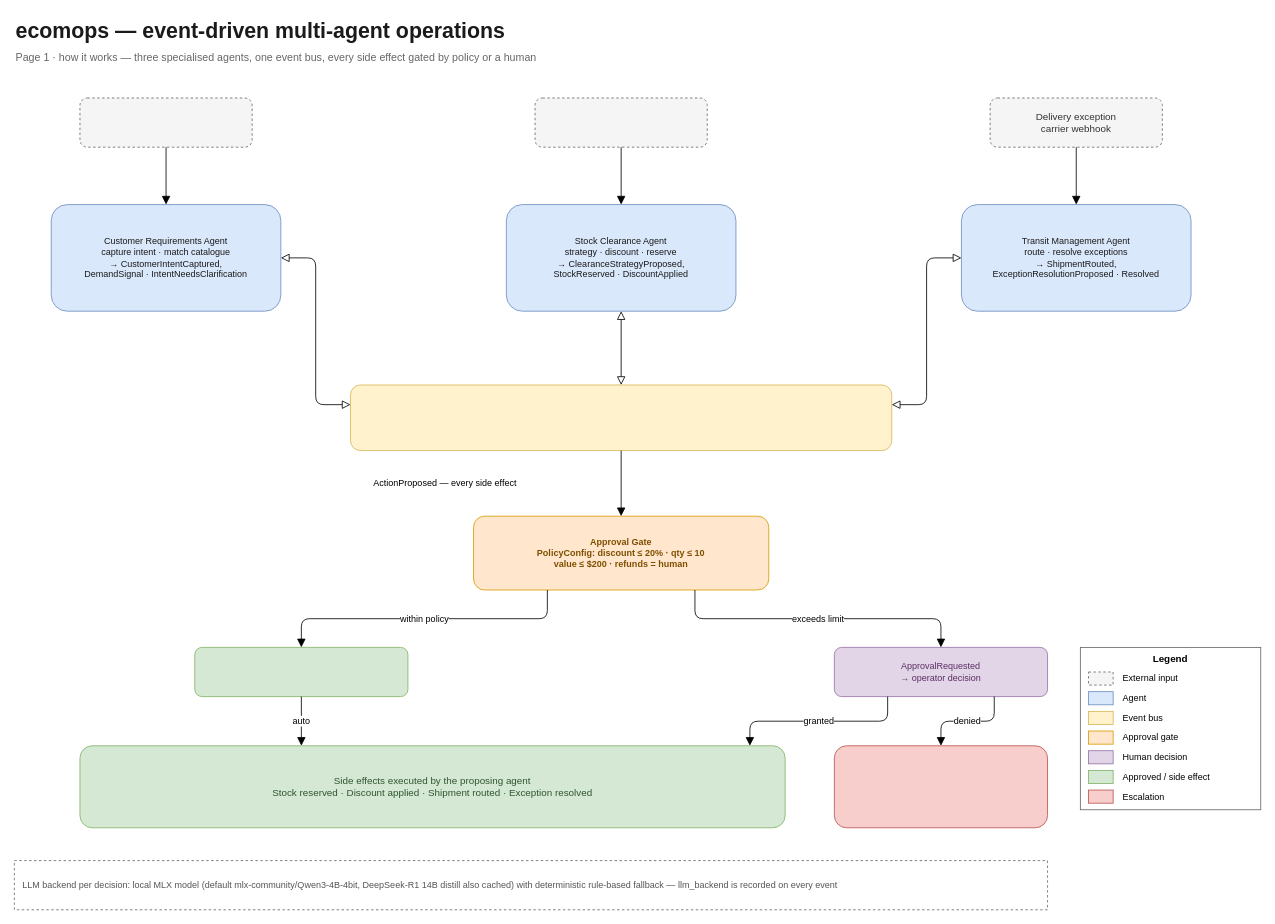
Some shapes in this 1275 by 924 pixel diagram are drawn without their labels. Each missing label, with the centre of its shape:
ActionApproved mode = policy (autonomous): the point at 301,672
Customer request web form / chat: the point at 165,122
EscalationRaised action rejected — review required: the point at 941,786
Event bus (in-process) FIFO dispatch · correlation + causation ids · full replay: the point at 621,417
Stock report WMS / warehouse: the point at 620,122
